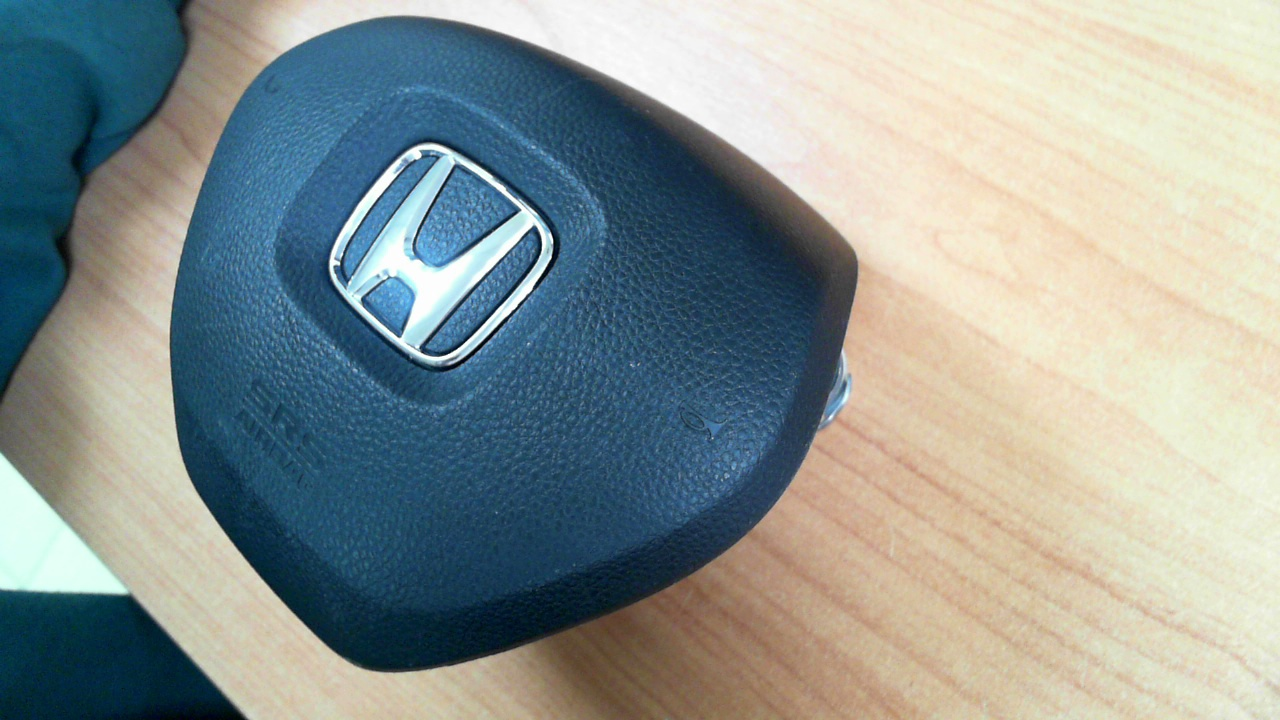Airbag: (169, 14, 861, 673)
Honda: (328, 142, 554, 368)
